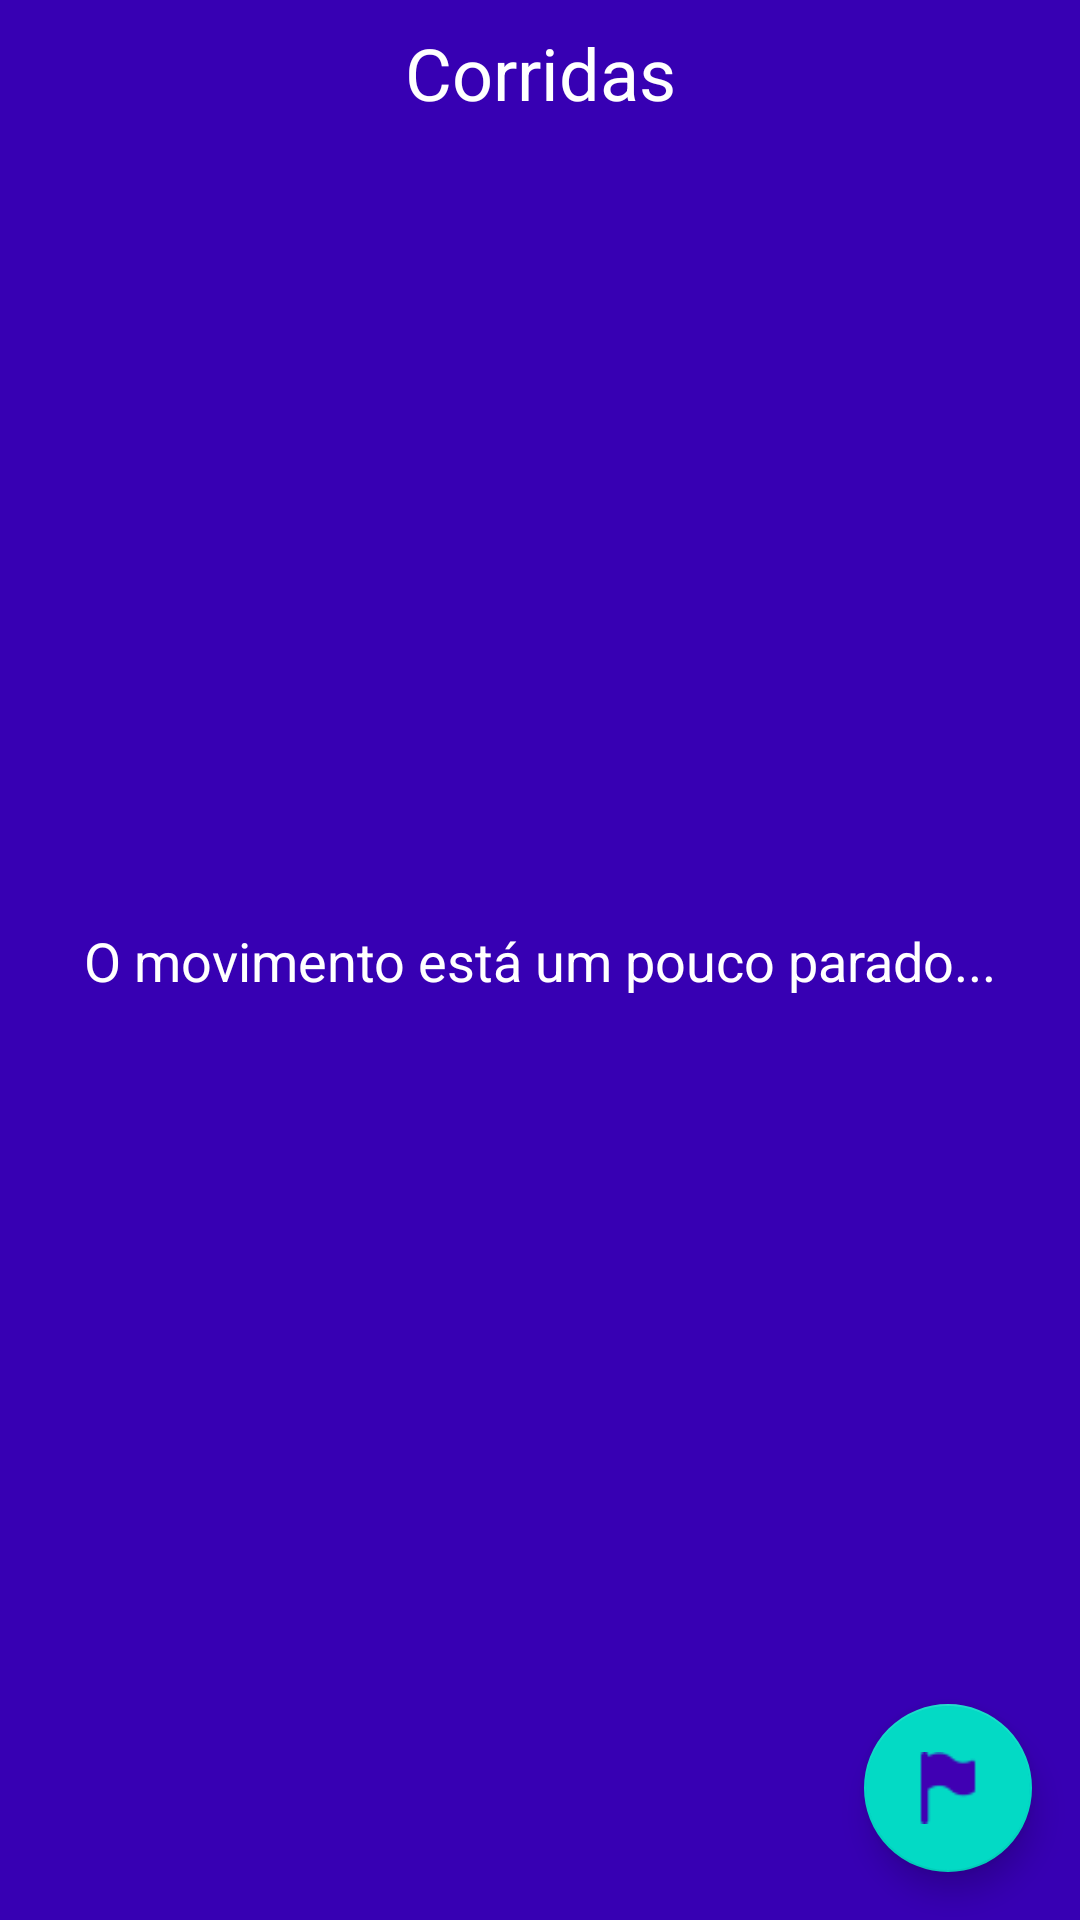

Icon bounding boxes for this 1080*1920 phone screenshot, format box(x1, y1, x2, y2):
bandeira marker: box(864, 1704, 1032, 1872)
